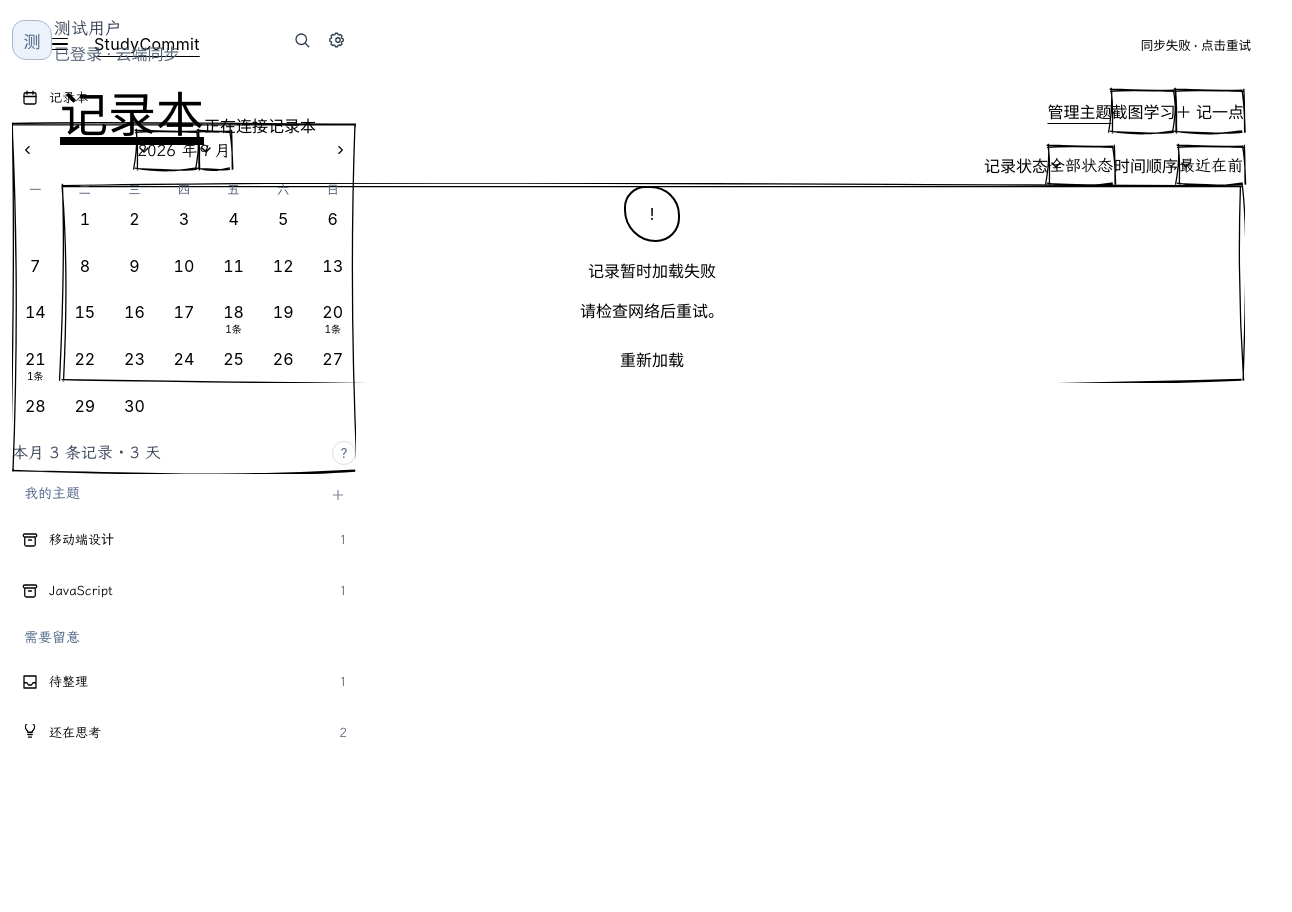
it: application shell › opens and closes the learning drawer without changing the current page
Expected: the heading "我的主题" is shown, top-left (24, 484), bottom-right (80, 504)
Press Escape
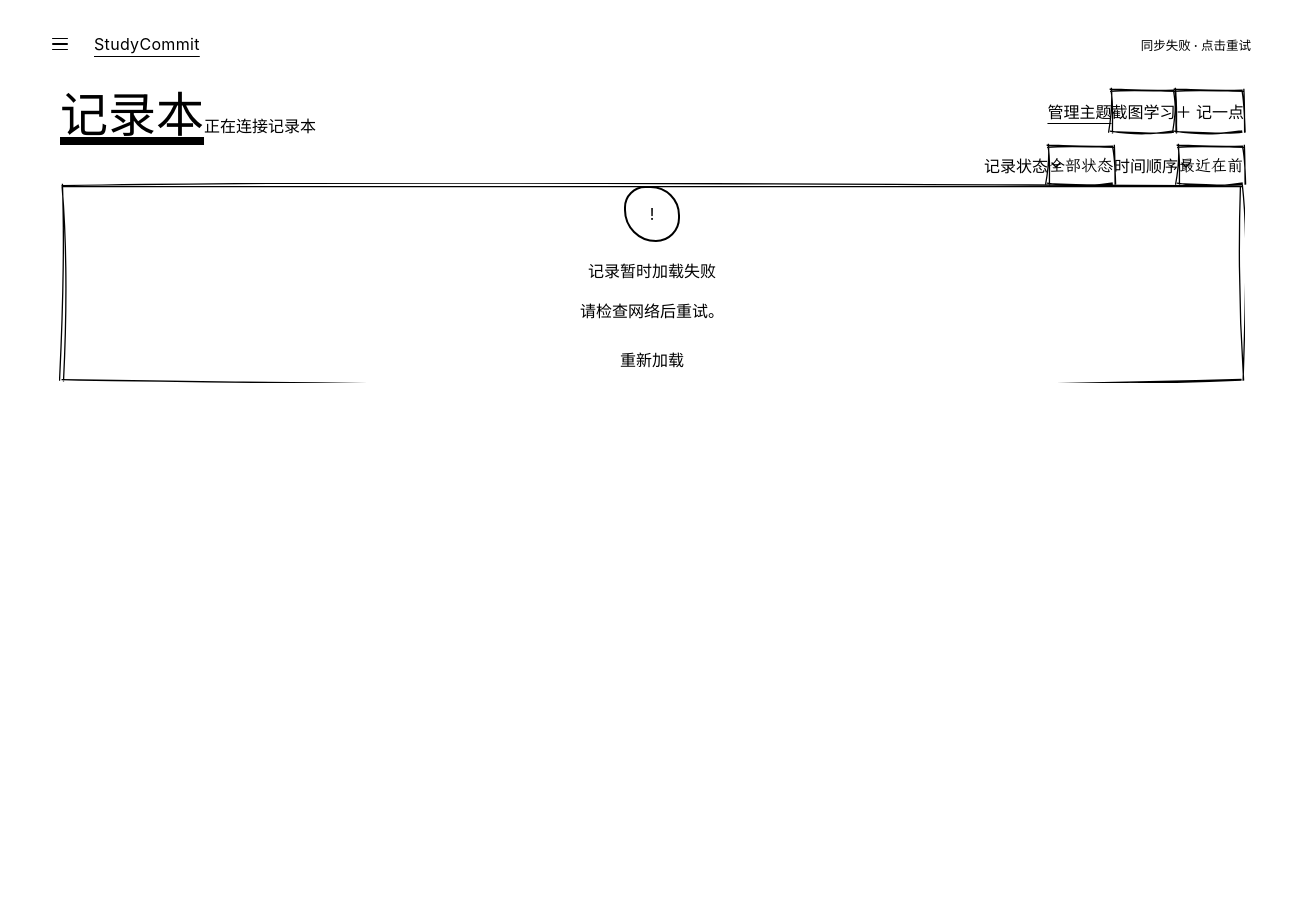
Result: the button named "打开我的抽屉" is collapsed
Click the button named "打开我的抽屉" at (60, 44), box top-left (40, 22), bottom-right (80, 66)
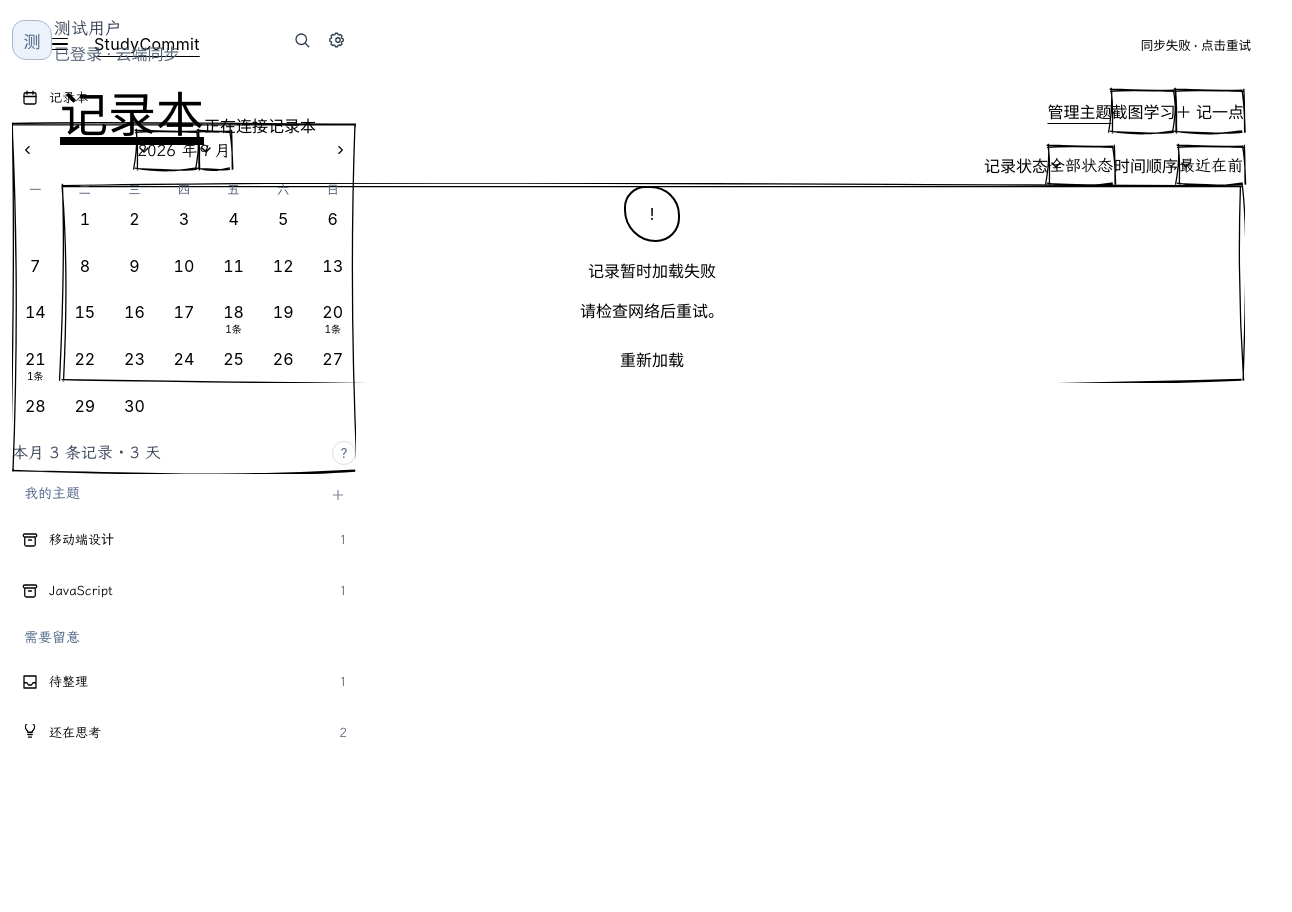
Expected: the heading "我的主题" is shown, top-left (24, 484), bottom-right (80, 504)
Press Escape
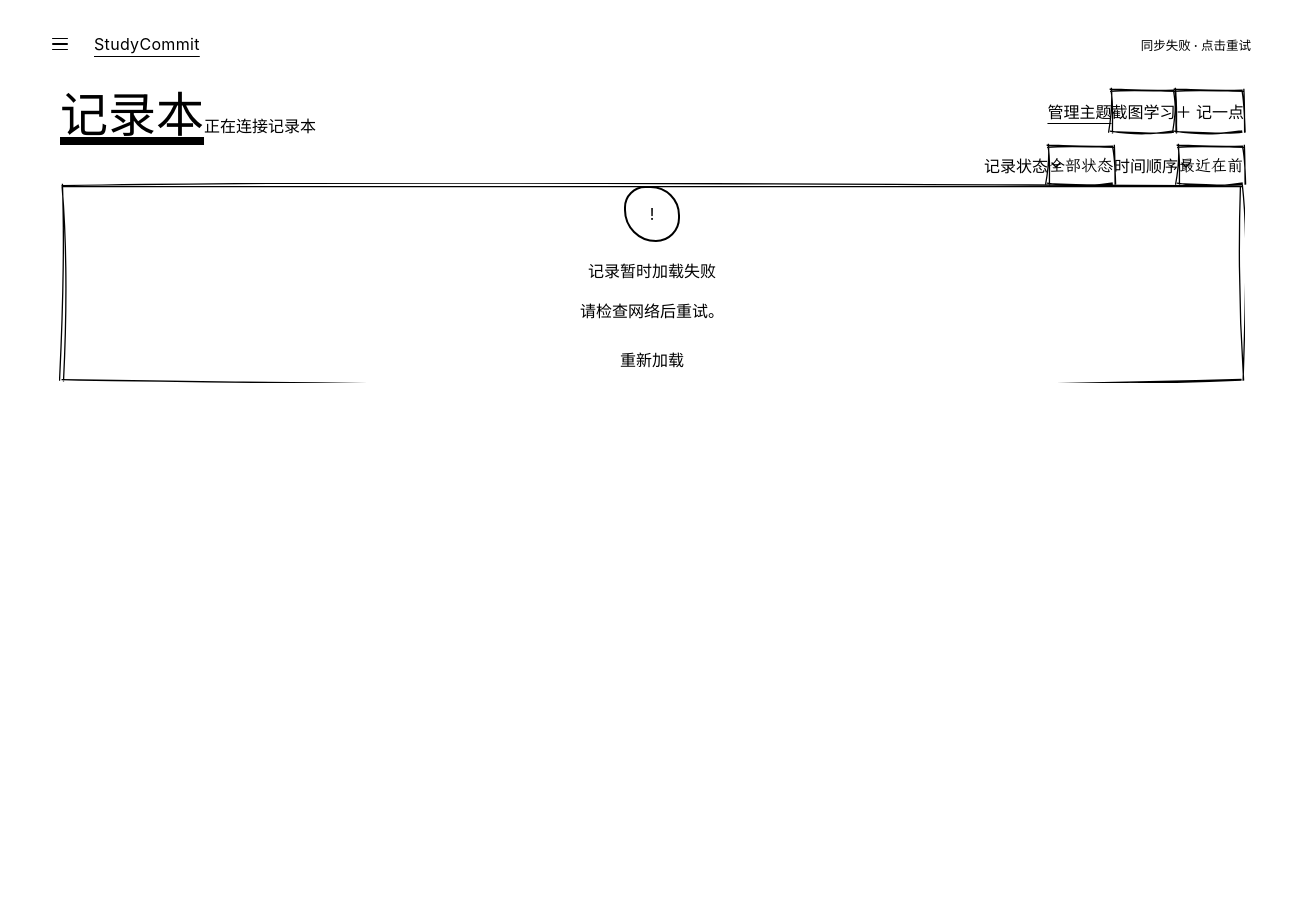
Expected: the heading "记录本" is shown, top-left (60, 76), bottom-right (204, 146)
Result: the button named "打开我的抽屉" is collapsed at top-left (40, 22), bottom-right (80, 66)
